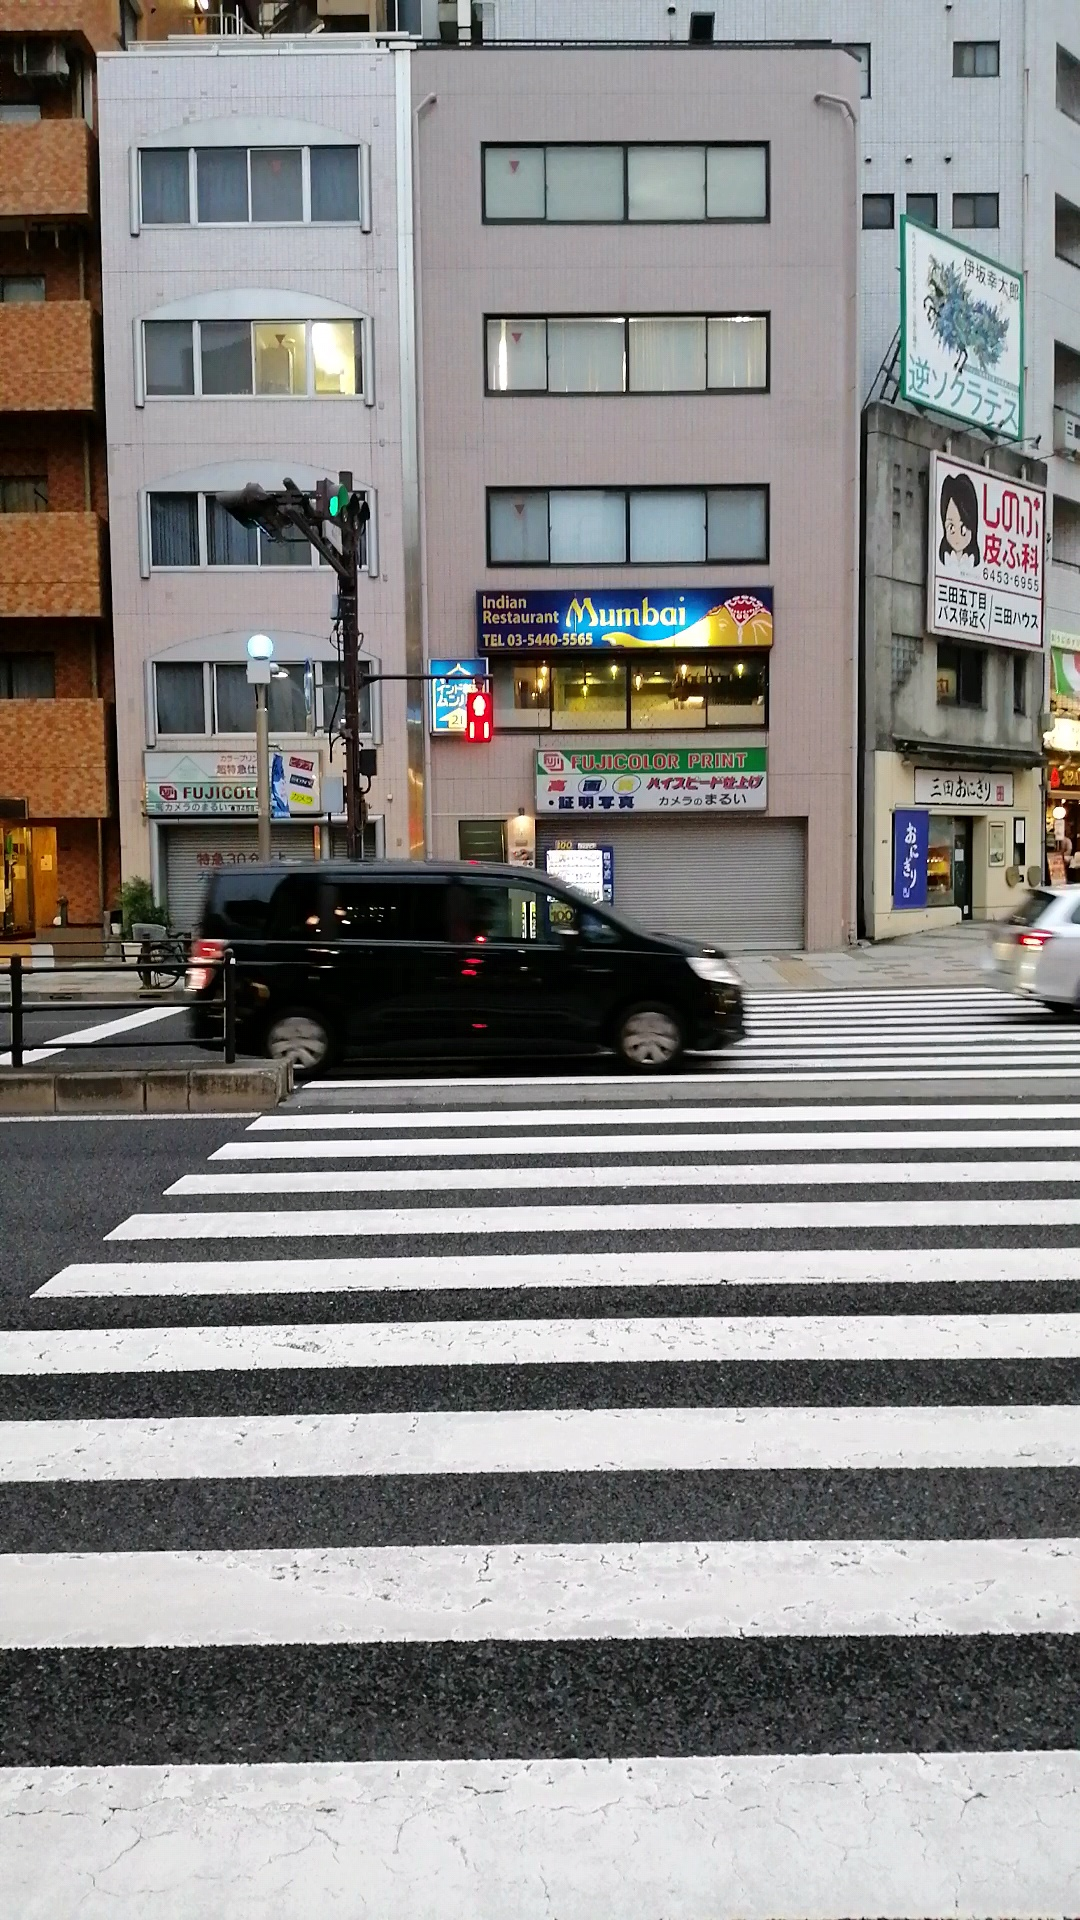red: (464, 691, 495, 746)
